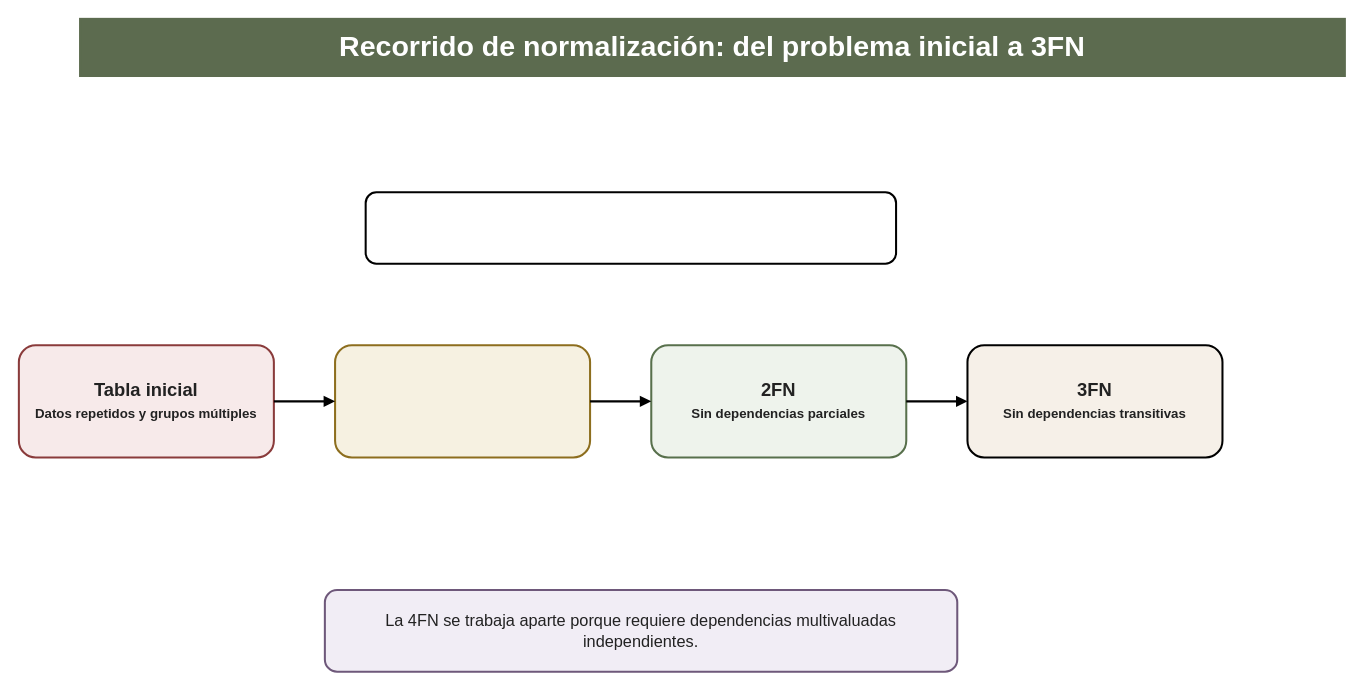
This 1363x690 diagram has some shape labels left out. The shapes that lost their labels are listed below. From the top down, each one's centre as x and y in pixels, then its label:
At point 630,227: "Ejemplo conductor: matrícula universitaria".
At point 462,401: "1FN Valores atómicos".
